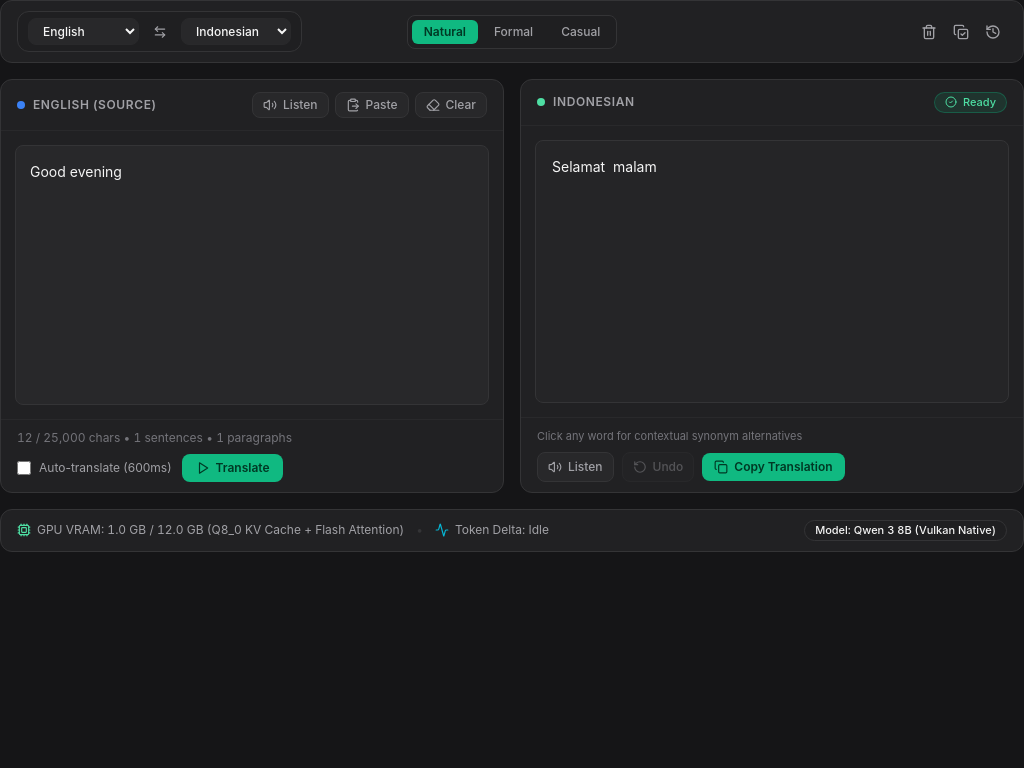
Scenario: TextTranslatorPage Flows › swaps source/target languages and texts when clicking Swap languages
The image size is (1024, 768).
Click the button named "Swap languages".
click(160, 32)  # box 147,18 -> 173,44
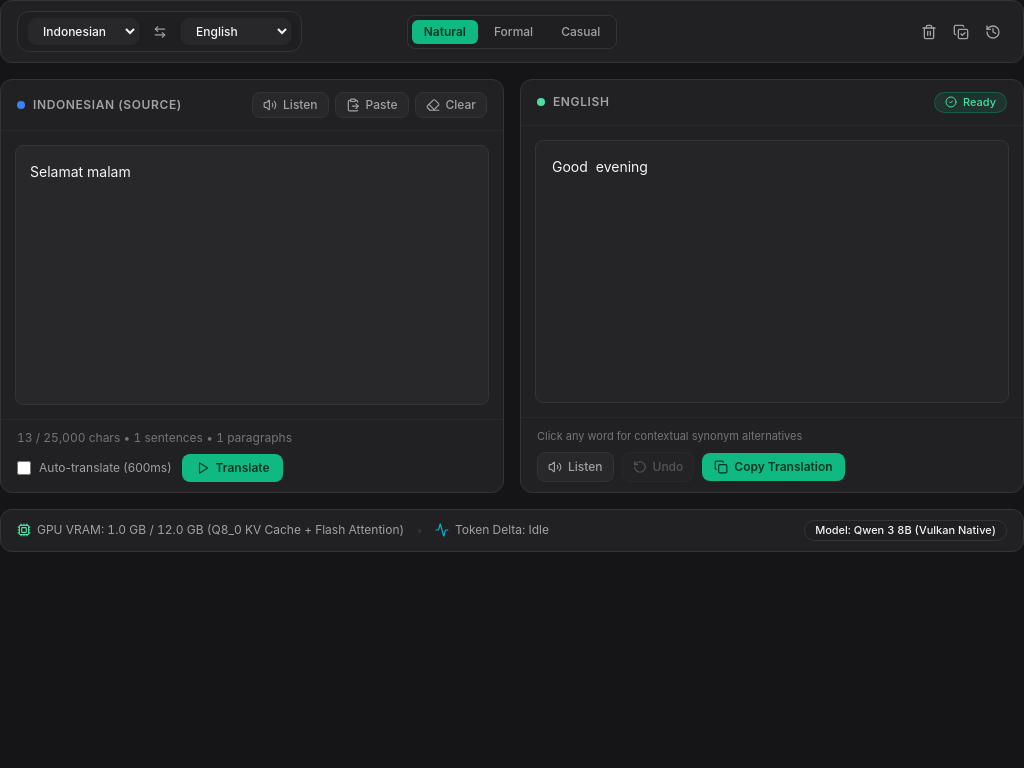
Expected: the element showing "Good evening" is shown, 535,140 -> 1009,402
Expected: the text box named "Indonesian source text" is shown, 15,145 -> 489,405
